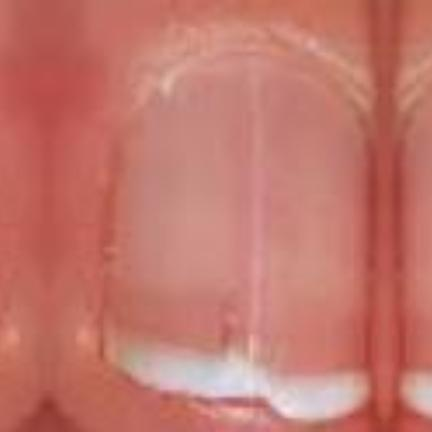Nail: (105, 46, 378, 427), (392, 71, 432, 415)
